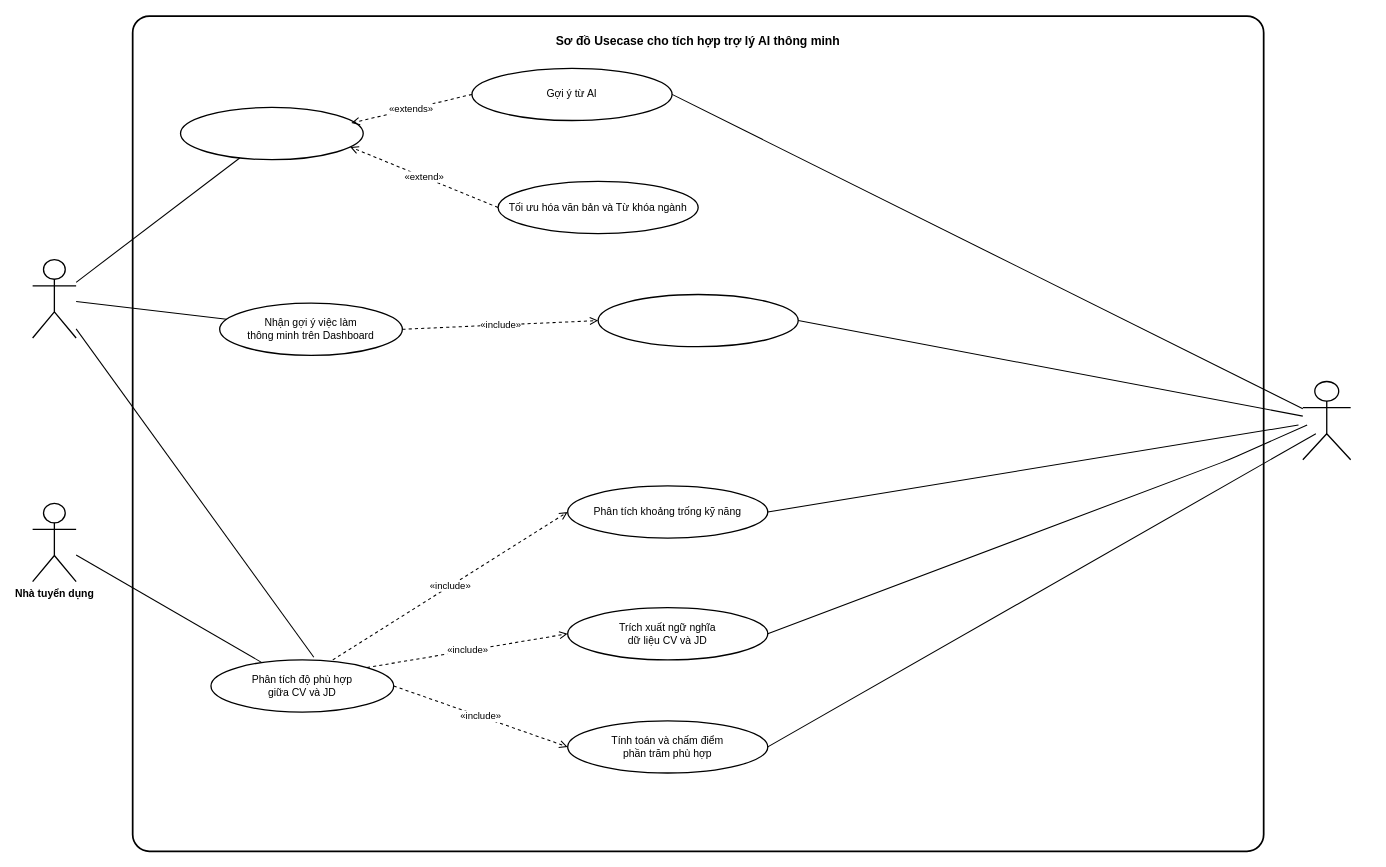
The diagram is 1386 pixels wide and 867 high, and some of its shapes have lost their labels. The centre of each missing label's shape, as x and y in pixels:
"Dịch vụ AI (OpenAI / Gemini)" goes at point 1326,420.
"Phân tích hồ sơ CV để tìm việc làm tương thích" goes at point 697,320.
"Trợ lý AI hỗ trợ viết và gợi ý nội dung CV" goes at point 271,133.
"Ứng viên" goes at point 54,298.
